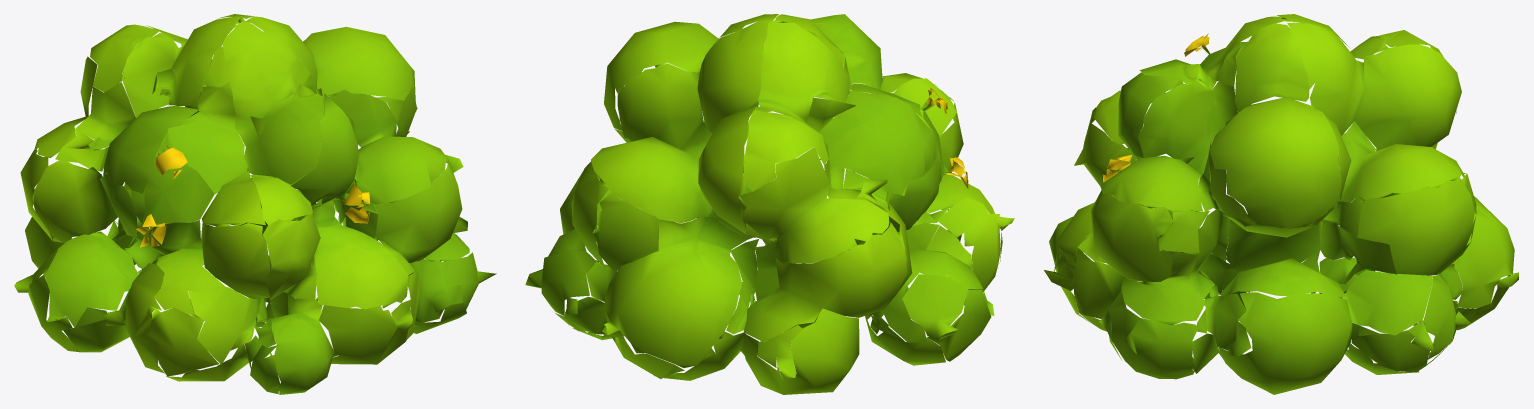
The model's file is busch_2.glb.
3 views of the same model, side by side, from view 1: azimuth 30°, elevation 25°; view 2: azimuth 150°, elevation 25°; view 3: azimuth 270°, elevation 25° (orthographic). The views are drawn at different scales.
Parts seen in each view (by area): view 1: tripo_node_261ede8b-4e77-424a-a87b-56a1e7c8ac4d; view 2: tripo_node_261ede8b-4e77-424a-a87b-56a1e7c8ac4d; view 3: tripo_node_261ede8b-4e77-424a-a87b-56a1e7c8ac4d.
Boxes of the visible parts, x1,y1,x2,y2 form: tripo_node_261ede8b-4e77-424a-a87b-56a1e7c8ac4d: (14, 14, 496, 394); tripo_node_261ede8b-4e77-424a-a87b-56a1e7c8ac4d: (525, 14, 1014, 394); tripo_node_261ede8b-4e77-424a-a87b-56a1e7c8ac4d: (1044, 14, 1518, 394).
Size of the model in its own units: 0.9961 by 0.6961 by 0.994.
Materials: 1 (1 with a texture image).
